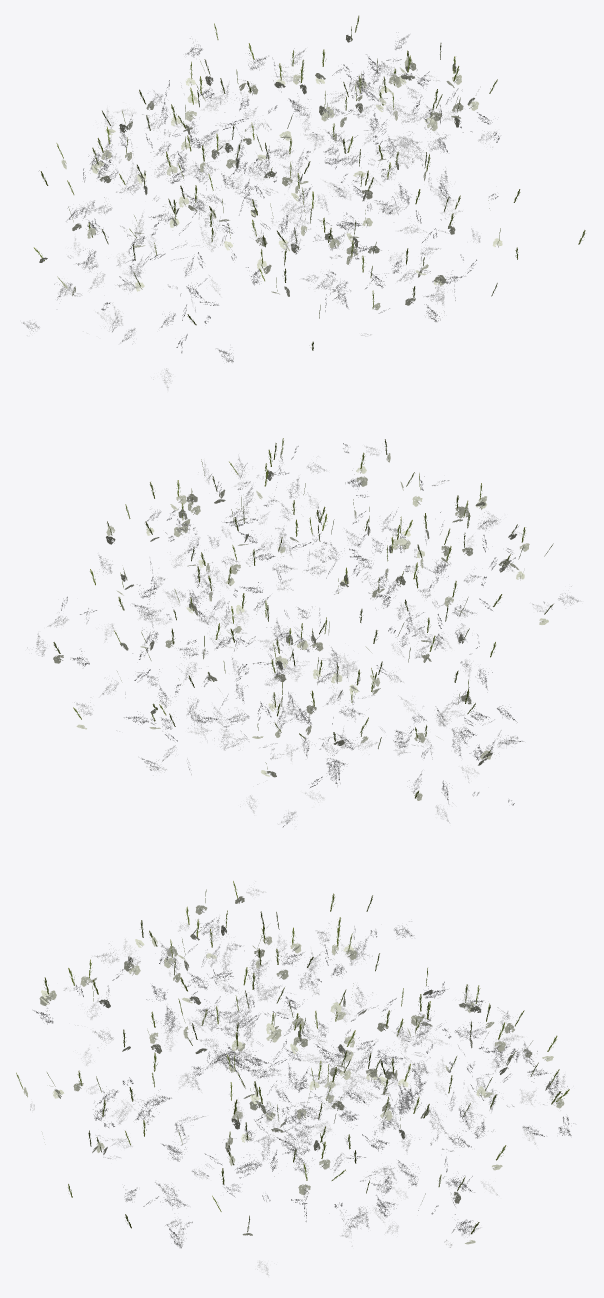
File: MESH_OC56_MelaleucaAlternifolia_A_LOD2.fbx
The picture shows the model from 3 angles, top to bottom: view 1: azimuth 30°, elevation 25°; view 2: azimuth 150°, elevation 25°; view 3: azimuth 270°, elevation 25°; orthographic projection. The views are drawn at different scales.
Visible parts, largest first — view 1: MI_LOD2_001, MI_LOD2_003, MI_LOD2_002; view 2: MI_LOD2_001, MI_LOD2_003, MI_LOD2_002; view 3: MI_LOD2_001, MI_LOD2_003, MI_LOD2_002.
Boxes of the visible parts, left/top/right/bottom form: MI_LOD2_001: left=21, top=32, right=499, bottom=390; MI_LOD2_003: left=39, top=35, right=502, bottom=310; MI_LOD2_002: left=33, top=15, right=585, bottom=350; MI_LOD2_001: left=27, top=443, right=581, bottom=827; MI_LOD2_003: left=53, top=450, right=548, bottom=800; MI_LOD2_002: left=53, top=438, right=553, bottom=798; MI_LOD2_001: left=30, top=881, right=573, bottom=1276; MI_LOD2_003: left=23, top=896, right=564, bottom=1244; MI_LOD2_002: left=16, top=881, right=569, bottom=1234.
Size of what is drawn, in the model's own units: 551 by 358 by 528.
